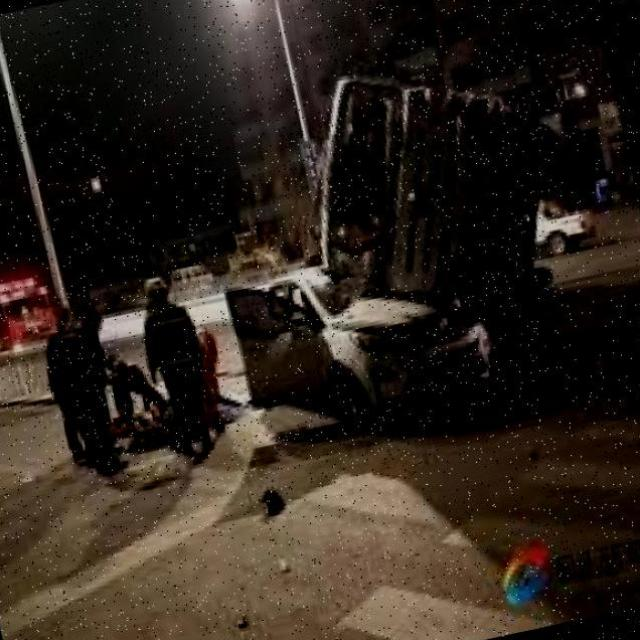accident: (231, 37, 631, 467)
